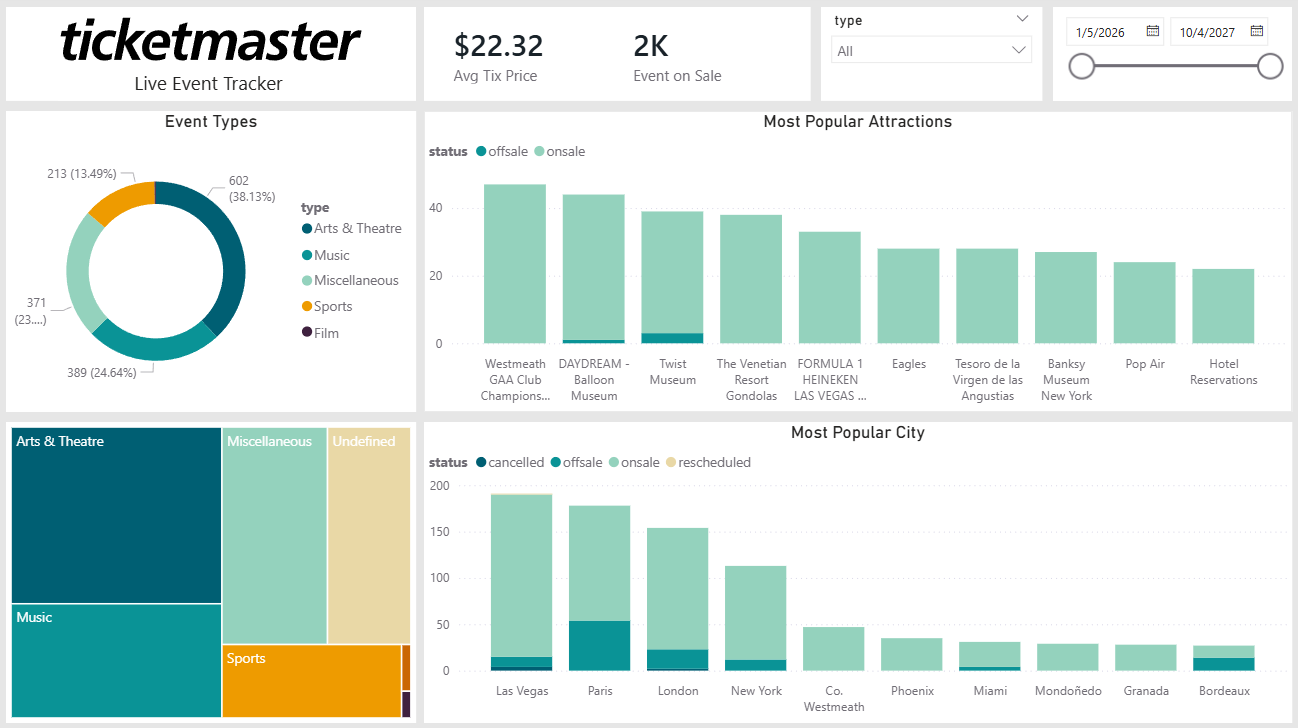

The dashboard page shown, as its layout file describes it:
{"tool":"powerbi","page":{"name":"Overview","canvas":[1280,720],"ordinal":0},"visuals":[{"type":"cardVisual","fields":{"Data":["_measures.Avg Tix Range","_measures.Tix on sale"]},"box":[419.5,11.8,379.3,92.1],"z":0},{"type":"donutChart","title":"Event Types","fields":{"Category":["fct_events.segment"],"Y":["_measures.Event Count"]},"box":[9.8,113.7,401.8,295],"z":1000},{"type":"columnChart","title":"Most Popular Attractions","fields":{"Category":["dim_attractions.name"],"Y":["_measures.Event Count"],"Series":["fct_events.status"]},"box":[419.5,113.7,850.7,295],"z":2000},{"type":"columnChart","title":"Most Popular City","fields":{"Category":["dim_venues.city"],"Y":["_measures.Event Count"],"Series":["fct_events.status"]},"box":[419.5,418.5,850.7,295],"z":3000},{"type":"slicer","fields":{"Values":["fct_events.segment"]},"box":[808.6,11.8,216.6,92.1],"z":4000},{"type":"slicer","fields":{"Values":["fct_events.date"]},"box":[1036,11.8,234.2,92.1],"z":5000},{"type":"treemap","title":"Types Details","fields":{"Group":["fct_events.segment Hierarchy.segment","fct_events.segment Hierarchy.genre","fct_events.segment Hierarchy.subgenre"],"Values":["_measures.Event Count"]},"box":[9.8,418.5,401.8,295],"z":6000},{"type":"shape","box":[9.8,11.8,401.8,92.1],"z":7000},{"type":"image","box":[9.8,11.8,401.8,62.7],"z":8000},{"type":"textbox","box":[60.8,67.6,295,36.3],"z":9000}]}

Visuals, with their boxes in screenshot pixels (x1, y1, x2, y2), scaled from the page's 1280x720 canvas onto the 1298x728 screenshot:
cardVisual - _measures.Avg Tix Range x _measures.Tix on sale: 425,12,810,105
"Event Types" donutChart: 10,115,417,413
"Most Popular Attractions" columnChart: 425,115,1288,413
"Most Popular City" columnChart: 425,423,1288,721
slicer - fct_events.segment: 820,12,1040,105
slicer - fct_events.date: 1051,12,1288,105
"Types Details" treemap: 10,423,417,721
shape: 10,12,417,105
image: 10,12,417,75
textbox: 62,68,361,105
